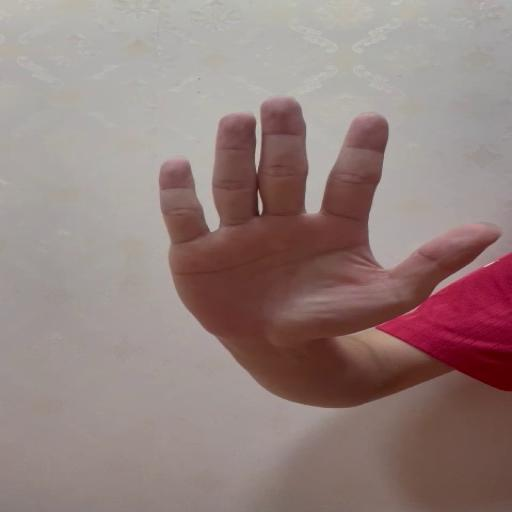open_palm: (158, 95, 499, 342)
